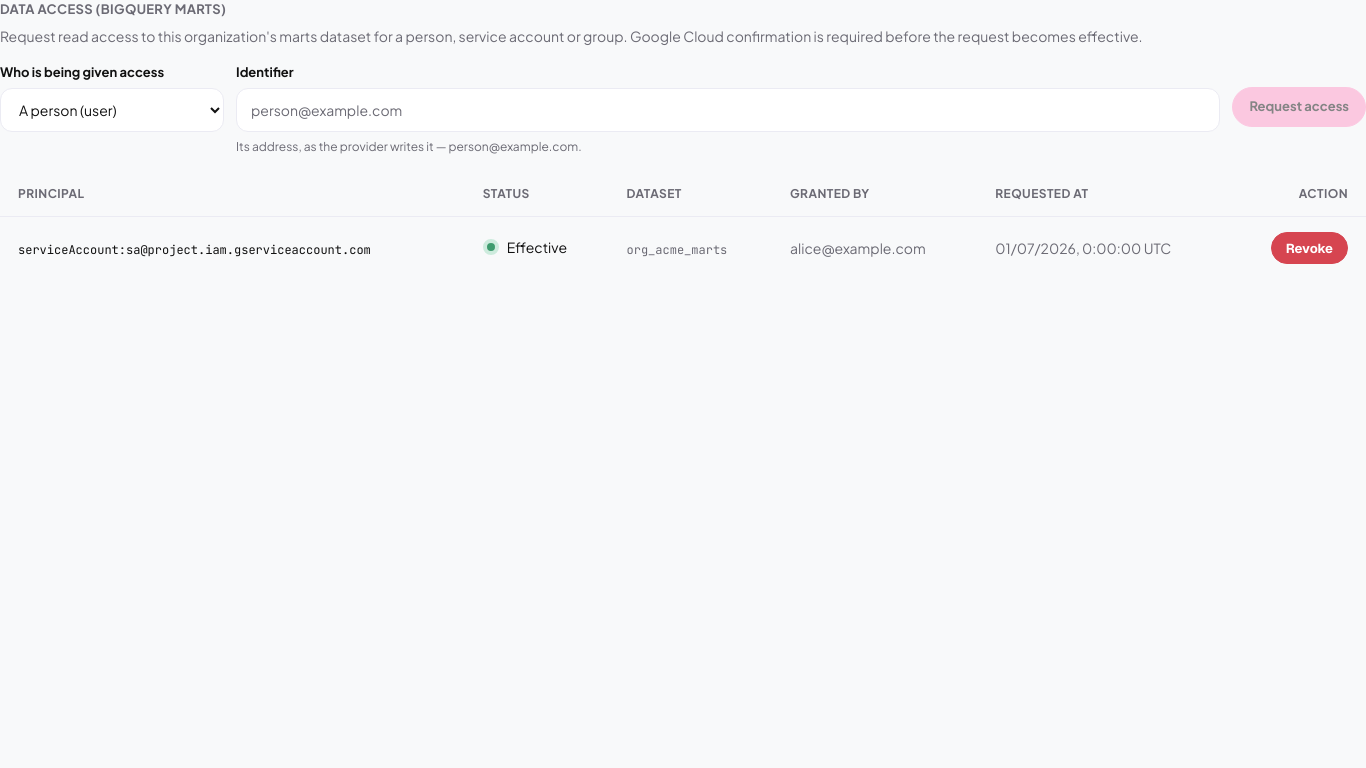
Test: DataAccessGrantsPanel — révocation › affiche Alert severity='error' si 403 sur DELETE (AD-9)
Step 1. Click the button "Revoke" → (1309, 248), box [1271,232,1348,264]
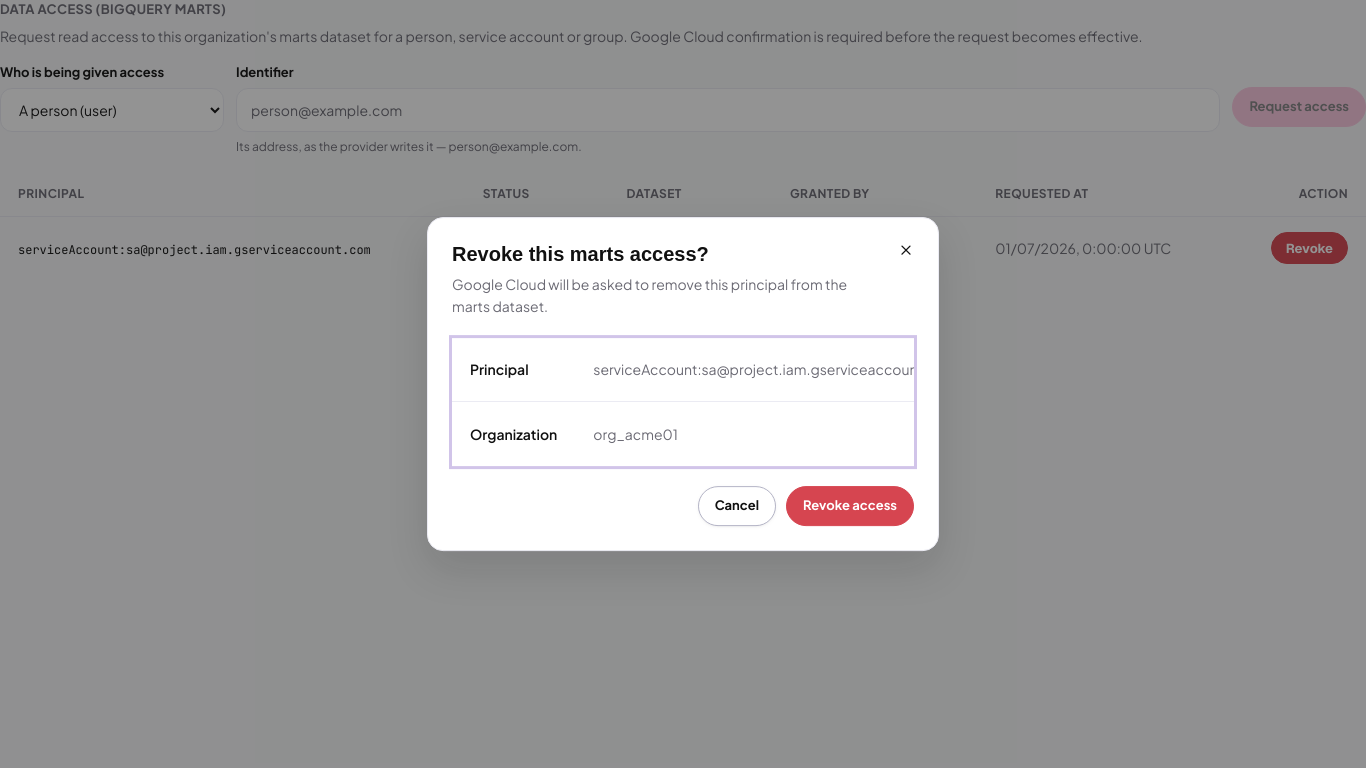
Step 2. Click the button "Revoke access" → (850, 506), box [786,486,914,526]
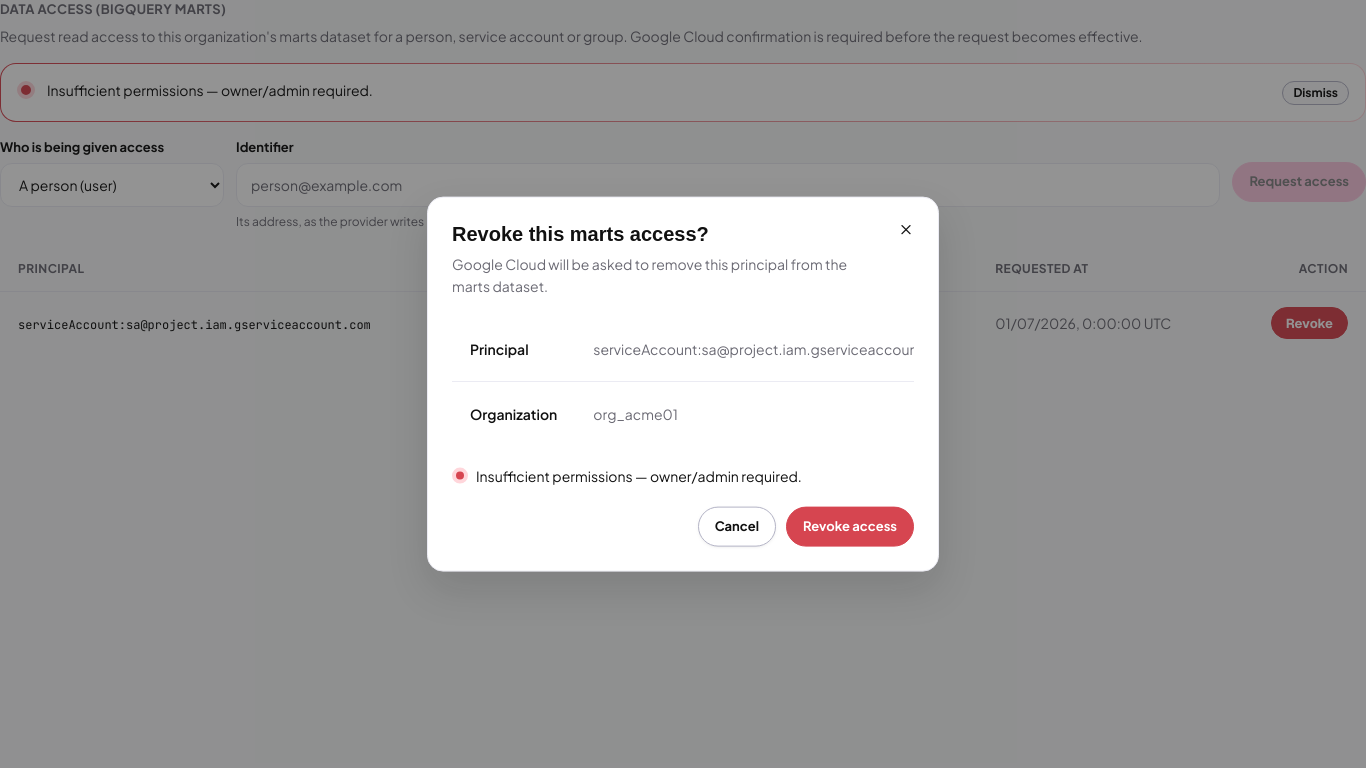
expect the message "Insufficient permissions — owner/admin required. Dismiss" is shown: met, box [0,62,1365,122]
